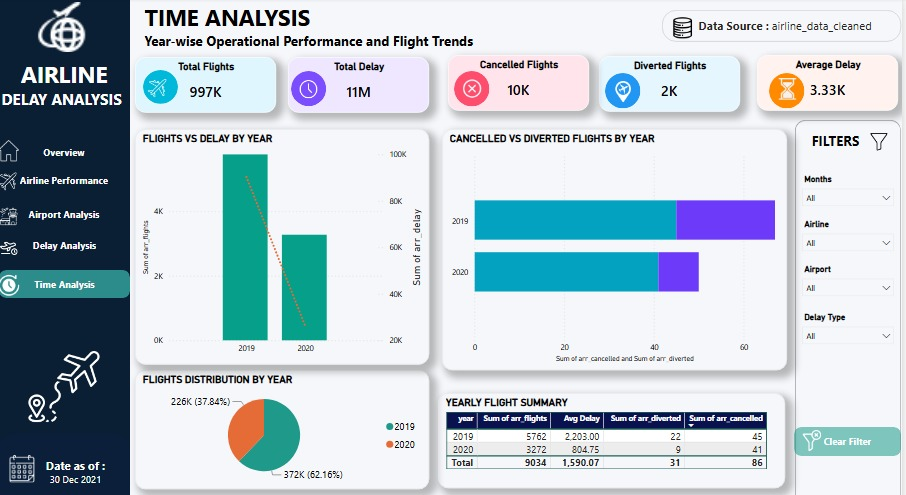

Layout of this report page (visuals, bound fields, positions):
{"tool":"powerbi","page":{"name":"Time Analysis","canvas":[1280,720],"ordinal":4},"visuals":[{"type":"shape","box":[0,0,187.2,720],"z":0},{"type":"actionButton","box":[0,198.4,187.1,41.1],"z":1000},{"type":"textbox","box":[202.7,0,609.4,83.6],"z":2000},{"type":"cardVisual","title":"Total Flights","fields":{"Data":["airline_data_cleaned.Total Flights"]},"box":[194,83.6,200,79.4],"z":3000},{"type":"actionButton","box":[0,238.1,187.1,39.7],"z":4000},{"type":"actionButton","box":[0,286.3,187.1,39.7],"z":5000},{"type":"actionButton","box":[0,330.2,188.5,39.7],"z":6000},{"type":"actionButton","box":[1.4,385.5,185.7,39.7],"z":7000},{"type":"cardVisual","title":"Diverted Flights","fields":{"Data":["airline_data_cleaned.Diverted Flights"]},"box":[851.8,82.2,199.8,79.4],"z":8000},{"type":"cardVisual","title":"Cancelled Flights","fields":{"Data":["airline_data_cleaned.Cancelled Flights"]},"box":[637.8,80.8,199.8,79.4],"z":9000},{"type":"cardVisual","title":"Total  Delay","fields":{"Data":["airline_data_cleaned.Total Delay"]},"box":[411.5,83.9,200.2,79.2],"z":10000},{"type":"slicer","fields":{"Values":["airline_data_cleaned.airport"]},"box":[1129.8,372.8,150.2,49.6],"z":11000},{"type":"pieChart","title":"FLIGHTS DISTRIBUTION BY YEAR","fields":{"Category":["airline_data_cleaned.year"],"Y":["Sum(airline_data_cleaned.arr_flights)"]},"box":[194.2,527.2,416.7,168.7],"z":12000},{"type":"tableEx","title":"YEARLY FLIGHT SUMMARY","fields":{"Values":["airline_data_cleaned.year","Sum(airline_data_cleaned.arr_flights)","airline_data_cleaned.Avg Delay","Sum(airline_data_cleaned.arr_diverted)","Sum(airline_data_cleaned.arr_cancelled)"]},"box":[623.6,559.8,491.8,134.6],"z":13000},{"type":"shape","box":[205.5,102,49.6,48.2],"z":14000},{"type":"cardVisual","title":"Average Delay","fields":{"Data":["airline_data_cleaned.Avg Delay"]},"box":[1076.4,81,200.2,79.2],"z":15000},{"type":"image","box":[1.4,242.4,25,35],"z":16000},{"type":"image","box":[0.3,198.4,30,35],"z":17000},{"type":"image","box":[2.8,291.6,25,35],"z":18000},{"type":"image","box":[2.8,337.5,25,35],"z":19000},{"type":"image","box":[0,389.8,31.2,35],"z":20000},{"type":"image","box":[205.5,114.8,39.7,25.5],"z":21000},{"type":"shape","box":[415.8,103.8,50,50],"z":22000},{"type":"image","box":[419.5,116.2,41.1,25.5],"z":23000},{"type":"shape","box":[646,104,50.4,50.4],"z":24000},{"type":"image","box":[652,113.4,39.7,29.8],"z":25000},{"type":"shape","box":[860.6,106.8,50.4,50.4],"z":26000},{"type":"image","box":[866,117.6,39.7,29.8],"z":27000},{"type":"shape","box":[1093.3,106.8,50.4,50.4],"z":28000},{"type":"image","box":[1098.4,113.4,41.1,31.2],"z":29000},{"type":"image","box":[0,500.3,187.1,100.6],"z":30000},{"type":"shape","box":[0,616.3,187.2,103.7],"z":31000},{"type":"image","box":[11.5,648,44.6,38.9],"z":32000},{"type":"actionButton","box":[1133.9,185.7,106.3,28.3],"z":33000},{"type":"image","box":[1233.1,191.3,30,25],"z":34000},{"type":"shape","box":[1129.6,172.9,150.2,547.1],"z":35000},{"type":"slicer","fields":{"Values":["airline_data_cleaned.month"]},"box":[1129.8,245.2,150.2,49.6],"z":36000},{"type":"slicer","fields":{"Values":["airline_data_cleaned.arr_delay"]},"box":[1129.8,440.8,150.2,49.6],"z":37000},{"type":"slicer","fields":{"Values":["airline_data_cleaned.arr_flights"]},"box":[1129.8,309,150.2,49.6],"z":38000},{"type":"image","box":[49.6,5.7,80.8,70.9],"z":39000},{"type":"textbox","box":[0,80.8,187.1,92.1],"z":40000},{"type":"actionButton","box":[56.7,647.7,106.3,28.3],"z":41000},{"type":"actionButton","box":[56.7,667.6,106.3,28.3],"z":42000},{"type":"textbox","box":[941.1,17,338.7,45],"z":43000},{"type":"image","box":[955.3,21.3,30,41.1],"z":44000},{"type":"actionButton","box":[1128.2,608,151.7,41.1],"z":45000},{"type":"image","box":[1129.6,612.3,48.2,29.8],"z":46000},{"type":"lineClusteredColumnComboChart","title":"FLIGHTS VS DELAY BY YEAR","fields":{"Category":["airline_data_cleaned.year"],"Y":["Sum(airline_data_cleaned.arr_flights)"],"Y2":["Sum(airline_data_cleaned.arr_delay)"]},"box":[194.2,185.7,416.7,334.5],"z":47000},{"type":"barChart","title":"CANCELLED VS DIVERTED FLIGHTS BY YEAR","fields":{"Category":["airline_data_cleaned.year"],"Y":["Sum(airline_data_cleaned.arr_cancelled)","Sum(airline_data_cleaned.arr_diverted)"]},"box":[629.3,185.7,489,341.6],"z":48000}]}

Visuals, with their boxes in screenshot pixels (x1, y1, x2, y2), scaled from the page's 1280x720 canvas onto the 906x495 screenshot:
shape: crop(0, 0, 133, 494)
actionButton: crop(0, 136, 132, 165)
textbox: crop(143, 0, 575, 57)
"Total Flights" cardVisual: crop(137, 57, 279, 112)
actionButton: crop(0, 164, 132, 191)
actionButton: crop(0, 197, 132, 224)
actionButton: crop(0, 227, 133, 254)
actionButton: crop(1, 265, 132, 292)
"Diverted Flights" cardVisual: crop(603, 57, 744, 111)
"Cancelled Flights" cardVisual: crop(451, 56, 593, 110)
"Total  Delay" cardVisual: crop(291, 58, 433, 112)
slicer - airline_data_cleaned.airport: crop(800, 256, 905, 290)
"FLIGHTS DISTRIBUTION BY YEAR" pieChart: crop(137, 362, 432, 478)
"YEARLY FLIGHT SUMMARY" tableEx: crop(441, 385, 789, 477)
shape: crop(145, 70, 181, 103)
"Average Delay" cardVisual: crop(762, 56, 904, 110)
image: crop(1, 167, 19, 191)
image: crop(0, 136, 21, 160)
image: crop(2, 200, 20, 225)
image: crop(2, 232, 20, 256)
image: crop(0, 268, 22, 292)
image: crop(145, 79, 174, 96)
shape: crop(294, 71, 330, 106)
image: crop(297, 80, 326, 97)
shape: crop(457, 72, 493, 106)
image: crop(461, 78, 490, 98)
shape: crop(609, 73, 645, 108)
image: crop(613, 81, 641, 101)
shape: crop(774, 73, 810, 108)
image: crop(777, 78, 807, 99)
image: crop(0, 344, 132, 413)
shape: crop(0, 424, 133, 494)
image: crop(8, 446, 40, 472)
actionButton: crop(803, 128, 878, 147)
image: crop(873, 132, 894, 149)
shape: crop(800, 119, 905, 494)
slicer - airline_data_cleaned.month: crop(800, 169, 905, 203)
slicer - airline_data_cleaned.arr_delay: crop(800, 303, 905, 337)
slicer - airline_data_cleaned.arr_flights: crop(800, 212, 905, 247)
image: crop(35, 4, 92, 53)
textbox: crop(0, 56, 132, 119)
actionButton: crop(40, 445, 115, 465)
actionButton: crop(40, 459, 115, 478)
textbox: crop(666, 12, 905, 43)
image: crop(676, 15, 697, 43)
actionButton: crop(799, 418, 905, 446)
image: crop(800, 421, 834, 441)
"FLIGHTS VS DELAY BY YEAR" lineClusteredColumnComboChart: crop(137, 128, 432, 358)
"CANCELLED VS DIVERTED FLIGHTS BY YEAR" barChart: crop(445, 128, 792, 363)
